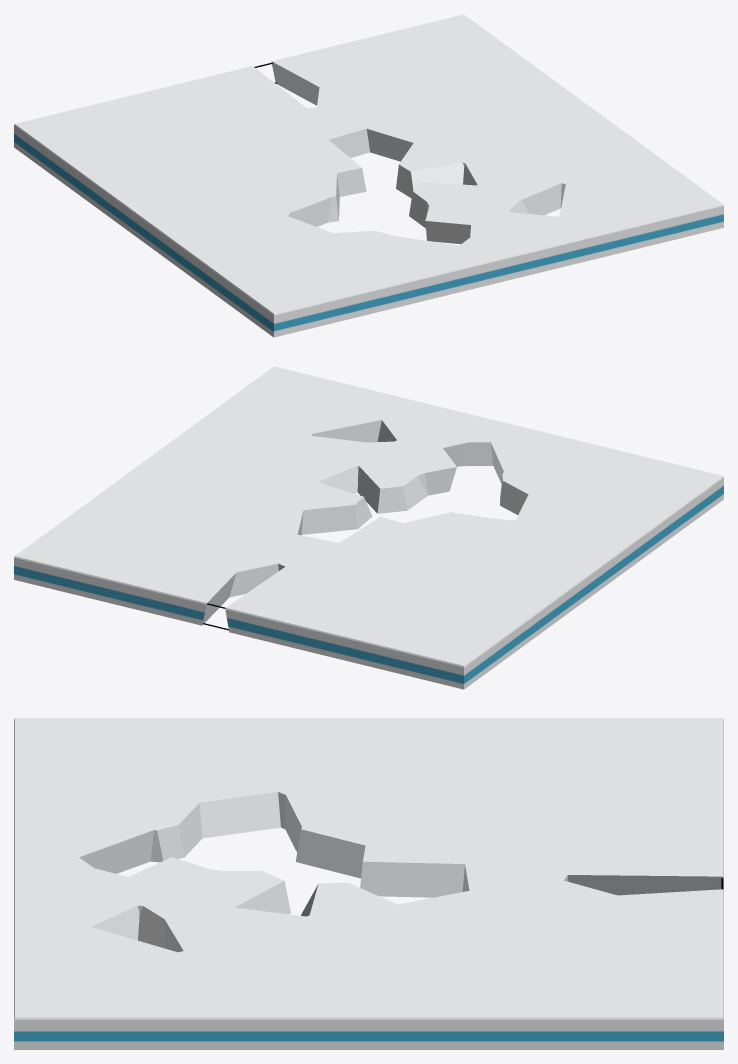
Rendered from Floor_TileStages.fbx.
3 renders of one model, top to bottom at view 1: azimuth 30°, elevation 25°; view 2: azimuth 150°, elevation 25°; view 3: azimuth 270°, elevation 25°, orthographic. The views are drawn at different scales.
Parts seen in each view (by area): view 1: Floor_Tile_Stage_01, Floor_Tile_Stage_03, Floor_Tile_Stage_08, Floor_Tile_Stage_04, Floor_Tile_Stage_07, Floor_Tile_Stage_06, Floor_Tile_Stage_05, Floor_Tile_Stage_09, Floor_Tile_Stage_02; view 2: Floor_Tile_Stage_03, Floor_Tile_Stage_01, Floor_Tile_Stage_04, Floor_Tile_Stage_05, Floor_Tile_Stage_08, Floor_Tile_Stage_07, Floor_Tile_Stage_06, Floor_Tile_Stage_09, Floor_Tile_Stage_02; view 3: Floor_Tile_Stage_01, Floor_Tile_Stage_08, Floor_Tile_Stage_06, Floor_Tile_Stage_03, Floor_Tile_Stage_05, Floor_Tile_Stage_07, Floor_Tile_Stage_04, Floor_Tile_Stage_09, Floor_Tile_Stage_02.
Boxes of the visible parts, bbox=[...] form: Floor_Tile_Stage_01: bbox=[225, 44, 619, 334]; Floor_Tile_Stage_03: bbox=[102, 88, 491, 337]; Floor_Tile_Stage_08: bbox=[182, 124, 723, 289]; Floor_Tile_Stage_04: bbox=[142, 66, 620, 270]; Floor_Tile_Stage_07: bbox=[81, 39, 609, 223]; Floor_Tile_Stage_06: bbox=[140, 101, 608, 305]; Floor_Tile_Stage_05: bbox=[56, 14, 497, 277]; Floor_Tile_Stage_09: bbox=[14, 66, 679, 287]; Floor_Tile_Stage_02: bbox=[57, 89, 637, 270]; Floor_Tile_Stage_03: bbox=[200, 470, 723, 668]; Floor_Tile_Stage_01: bbox=[55, 415, 705, 551]; Floor_Tile_Stage_04: bbox=[225, 392, 632, 652]; Floor_Tile_Stage_05: bbox=[14, 449, 603, 680]; Floor_Tile_Stage_08: bbox=[187, 366, 659, 565]; Floor_Tile_Stage_07: bbox=[49, 431, 569, 639]; Floor_Tile_Stage_06: bbox=[153, 425, 594, 607]; Floor_Tile_Stage_09: bbox=[160, 397, 547, 689]; Floor_Tile_Stage_02: bbox=[300, 387, 633, 657]; Floor_Tile_Stage_01: bbox=[14, 729, 613, 1049]; Floor_Tile_Stage_08: bbox=[14, 718, 399, 1049]; Floor_Tile_Stage_06: bbox=[14, 761, 653, 1049]; Floor_Tile_Stage_03: bbox=[14, 718, 723, 964]; Floor_Tile_Stage_05: bbox=[32, 745, 723, 1049]; Floor_Tile_Stage_07: bbox=[138, 718, 723, 1049]; Floor_Tile_Stage_04: bbox=[14, 718, 723, 946]; Floor_Tile_Stage_09: bbox=[14, 718, 723, 1049]; Floor_Tile_Stage_02: bbox=[14, 718, 718, 970].
Bounding box in the file's own units: 4 × 0.2 × 4.
